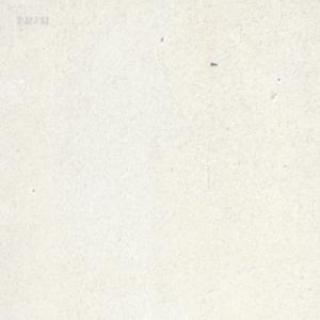Nailtrack_idkeyframe: (210, 60, 217, 65)
